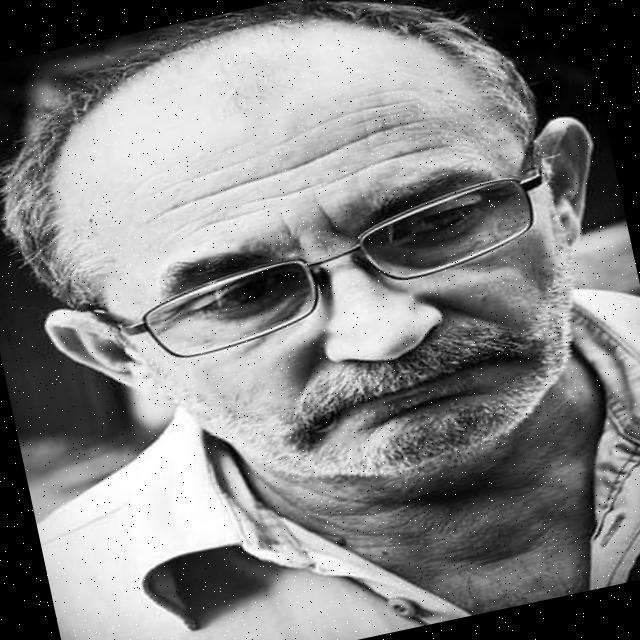Sadness: (124, 80, 584, 517)
